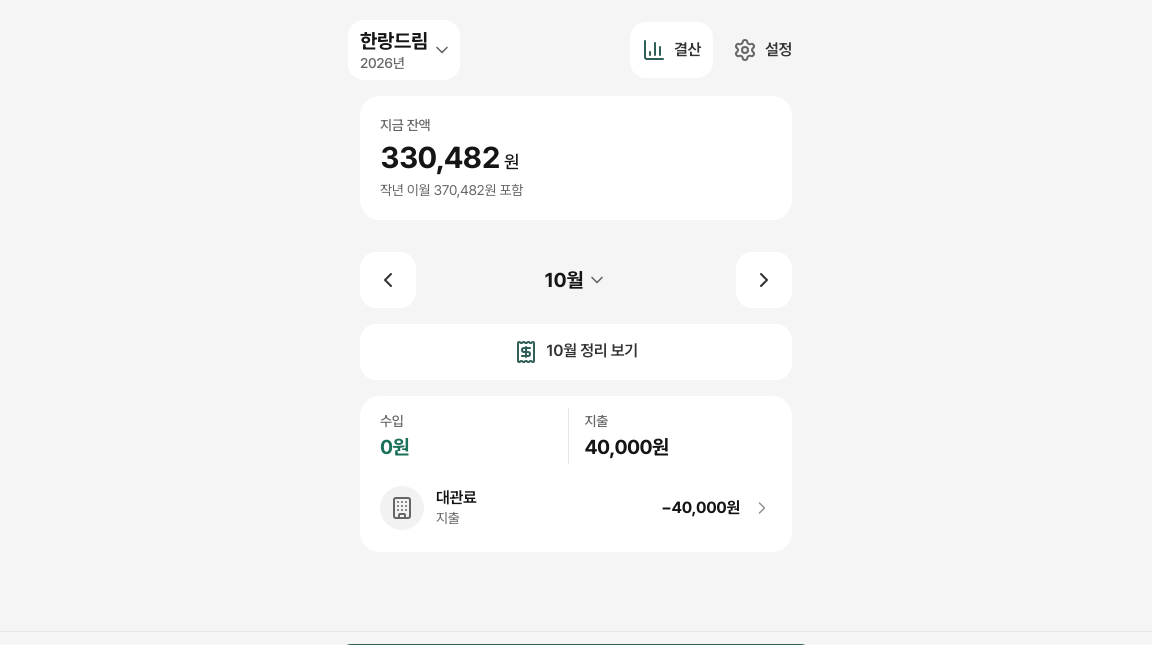
Test: SPEC-006 v2.6 용어 바꾸기 (백업 → 기록 파일, 자동 보관 → 자동으로 지키기) › AC-15 공유가 안 돼 내려받으면 "기록 파일을 다운로드 폴더에 저장했어요"
Click the button "설정".
click(762, 50)  # box x1=721 y1=22 x2=804 y2=78
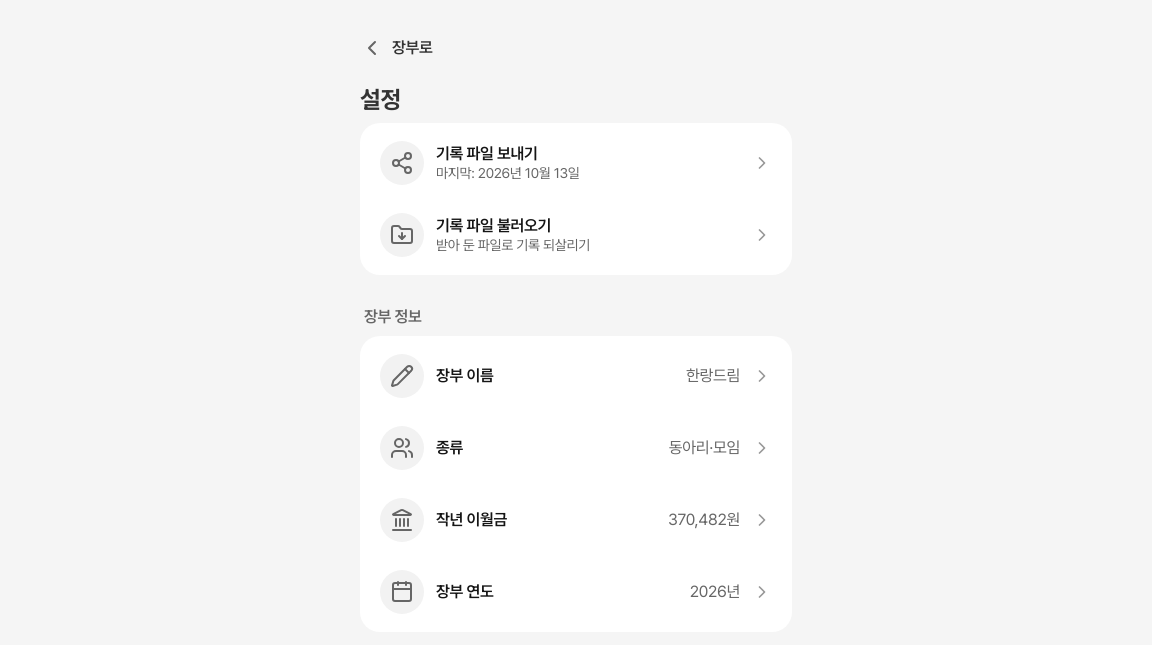
Click the button "기록 파일 보내기 마지막: 2026년 10월 13일".
click(576, 163)  # box x1=360 y1=127 x2=792 y2=199
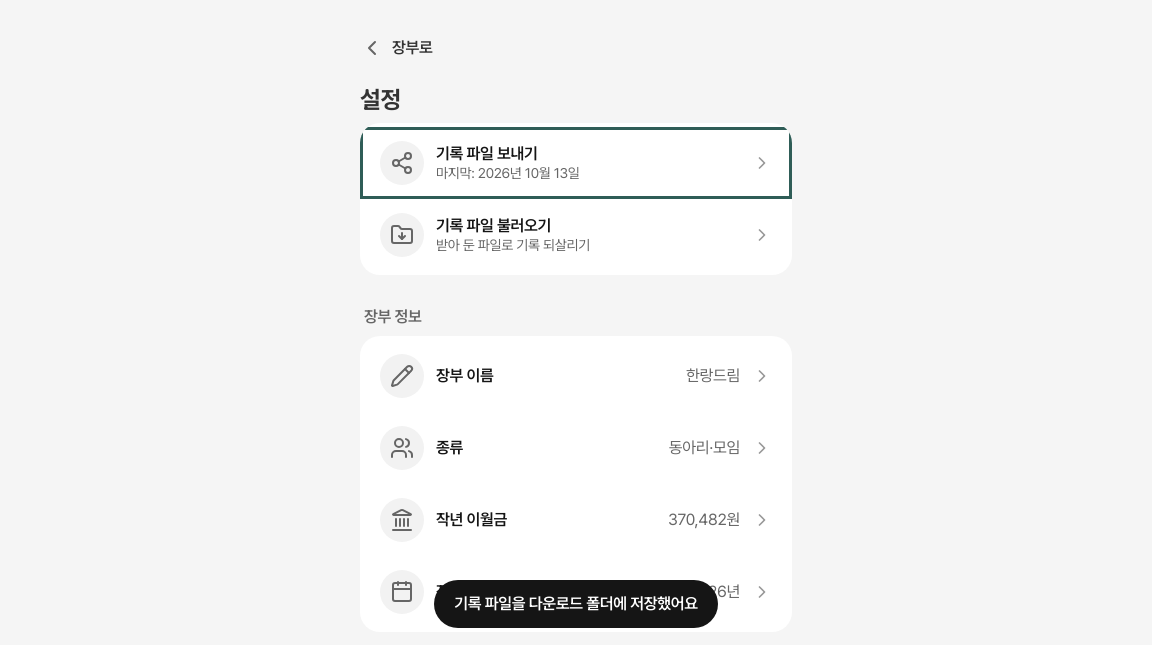
Result: the text "기록 파일을 다운로드 폴더에 저장했어요" is shown at x1=434 y1=580 x2=718 y2=628
